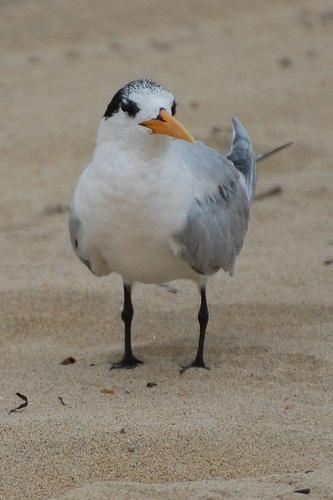bird: (67, 75, 289, 374)
